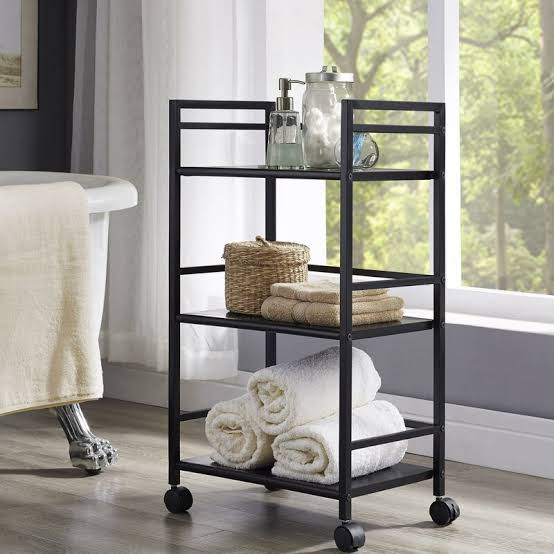Carts: (165, 95, 463, 553)
